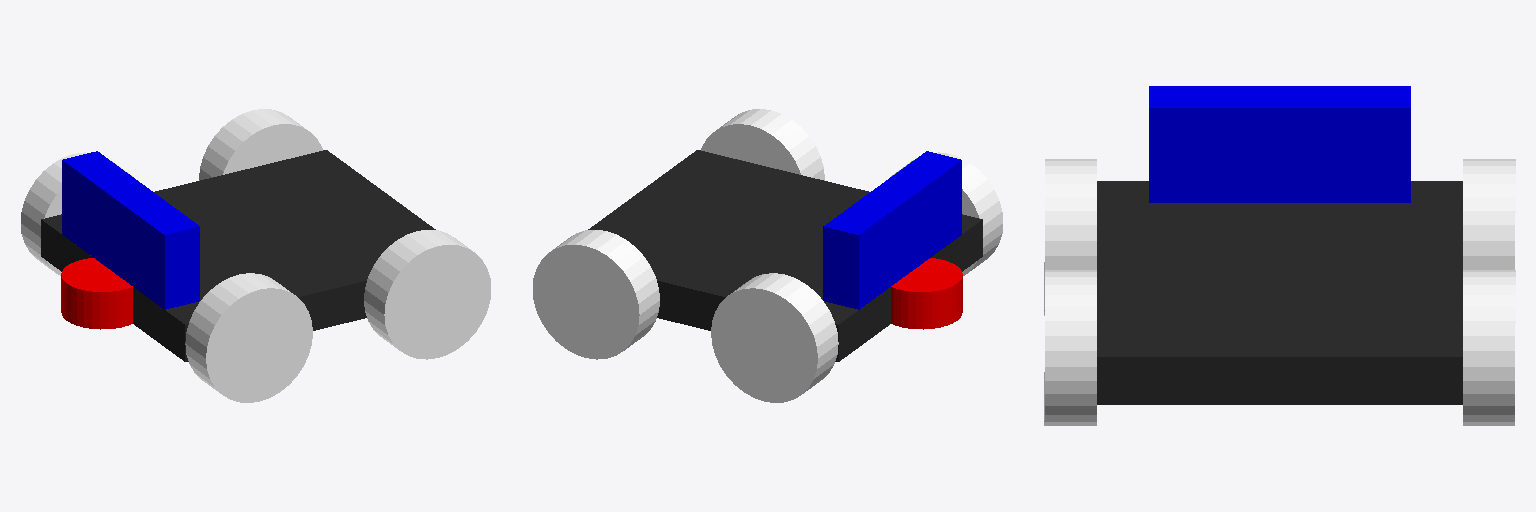
The robot description file, URDF, robot "rover":
<?xml version="1.0" ?>
  <robot name="rover">


  <link name="chassis">
    <visual>
      <geometry>
          <box size=".8 0.7 0.1"/>
      </geometry>
      <material name="gray">
        <color rgba=".2 .2 .2 1" />
      </material>
    </visual>
  <inertial>
            <mass value="2" />
            <inertia ixx="0.04" ixy="0.0" ixz="0" 
            iyy="0.17" iyz="0" izz="0.25" />
    </inertial>
    
    <collision>
      <geometry>
          <box size=".8 0.7 0.1"/>
      </geometry>
    </collision>
  </link>


  <link name="wheel_front_right">
    <inertial>
            <mass value="2" />
            <inertia ixx="1e-3" ixy="0.0" ixz="0" 
            iyy="1e-3" iyz="0" izz="1e-3" />
    </inertial>

    <visual>
      
      <geometry>
          <cylinder radius="0.15" length="0.1"/>
      </geometry>
      <material name="white">
        <color rgba="1 1 1 1"/>
      </material>
    </visual>

    <collision>
    
      <geometry>
          <cylinder radius="0.15" length="0.1"/>
      </geometry>
      <contact_coefficients mu="1" kp="1e+13" kd="1.0"/>
    </collision>
  </link>

  <joint name="wheel_front_right_joint" type="continuous">
    <origin xyz="0.25 0.4 0.0" rpy="1.57 0.0 0.0"/>
    <parent link="chassis"/>
    <child link="wheel_front_right"/>
    <axis xyz="0.0 0.0 1.0"/>
  </joint>

  <link name="wheel_front_left">
    <inertial>
            <mass value="2" />
            <inertia ixx="1e-3" ixy="0.0" ixz="0" 
            iyy="1e-3" iyz="0" izz="1e-3" />
    </inertial>

    <visual>
      
      <geometry>
          <cylinder radius="0.15" length="0.1"/>
      </geometry>
      <material name="white">
        <color rgba="1 1 1 1"/>
      </material>
    </visual>

    <collision>
      <geometry>
          <cylinder radius="0.15" length="0.1"/>
      </geometry>
      <contact_coefficients mu="1" kp="1e+13" kd="1.0"/>
    </collision>
  </link>

  <joint name="wheel_front_left_joint" type="continuous">
    <origin xyz="0.25 -0.4 0.0" rpy="1.57 0.0 0.0"/>
    <parent link="chassis"/>
    <child link="wheel_front_left"/>
    <axis xyz="0.0 0.0 1.0"/>

  </joint>

<link name="wheel_back_right">
    <inertial>
            <mass value="2" />
            <inertia ixx="1e-3" ixy="0.0" ixz="0" 
            iyy="1e-3" iyz="0" izz="1e-3" />
    </inertial>

    <visual>
      
      <geometry>
          <cylinder radius="0.15" length="0.1"/>
      </geometry>
      <material name="white">
        <color rgba="1 1 1 1"/>
      </material>
    </visual>

    <collision>
      <geometry>
          <cylinder radius="0.15" length="0.1"/>
      </geometry>
      <contact_coefficients mu="1" kp="1e+13" kd="1.0"/>
    </collision>
  </link>

  <joint name="wheel_back_right_joint" type="continuous">
    <origin xyz="-0.25 0.4 0.0" rpy="1.57 0.0 0.0"/>
    <parent link="chassis"/>
    <child link="wheel_back_right"/>
    <axis xyz="0.0 0.0 1.0"/>

  </joint>

  <link name="wheel_back_left">
    <inertial>
            <mass value="2" />
            <inertia ixx="1e-3" ixy="0.0" ixz="0" 
            iyy="1e-3" iyz="0" izz="1e-3" />
    </inertial>

    <visual>
      
      <geometry>
          <cylinder radius="0.15" length="0.1"/>
      </geometry>
      <material name="white">
        <color rgba="1 1 1 1"/>
      </material>
    </visual>

    <collision>
      <geometry>
          <cylinder radius="0.15" length="0.1"/>
      </geometry>
      <contact_coefficients mu="1" kp="1e+13" kd="1.0"/>
    </collision>
  </link>

  <joint name="wheel_back_left_joint" type="continuous">
    <origin xyz="-0.25 -0.4 0.0" rpy="1.57 0.0 0.0"/>
    <parent link="chassis"/>
    <child link="wheel_back_left"/>
    <axis xyz="0.0 0.0 1.0"/>

  </joint>

  <link name="camera">
    <inertial>
            <mass value="0.5" />
            <inertia ixx="0.01" ixy="0.0" ixz="0" 
            iyy="0.01" iyz="0" izz="0.01" />
    </inertial>

    <visual>
      
      <geometry>
        <box size="0.1 0.5 0.2"/>
      </geometry>
      <material name="blue">
        <color rgba="0 0 1 1"/>
      </material>
    </visual>

    <collision>
      <geometry>
          <box size="0.1 0.5 0.2"/>
      </geometry>
    </collision>
  </link>

  <joint name="camera_joint" type="fixed">
    <origin xyz="-0.35 0 0.15" rpy="0 0.0 3.14"/>
    <parent link="chassis"/>
    <child link="camera"/>
    <axis xyz="0.0 0.0 1.0"/>

  </joint>

  <link name="lidar">
    <inertial>
            <mass value="0.5" />
            <inertia ixx="0.01" ixy="0.0" ixz="0" 
            iyy="0.01" iyz="0" izz="0.01" />
    </inertial>

    <visual>
      <geometry>
        <cylinder radius="0.1" length="0.1"/>
      </geometry>
      <material name="red">
        <color rgba="1 0 0  1"/>
      </material>
    </visual>

    <collision>
      <geometry>
        <cylinder radius="0.1" length="0.1"/>
      </geometry>
    </collision>
  </link>

  <joint name="lidar_joint" type="fixed">
    <origin xyz="-0.43 0 0.0" rpy="0 0.0 1.57"/>
    <parent link="chassis"/>
    <child link="lidar"/>
    <axis xyz="0.0 0.0 1.0"/>

  </joint>



<!-- DIFFENERNTIAL DRIVEEEEEEEEEEEEE -->

  <gazebo>
  <plugin name='diff_drive' filename='libgazebo_ros_diff_drive.so'>
          <left_joint>wheel_front_left_joint</left_joint>
          <right_joint>wheel_front_right_joint</right_joint>
          <wheel_separation>0.8</wheel_separation>
          <wheel_diameter>0.3</wheel_diameter>
          <max_wheel_torque>20</max_wheel_torque>
          <max_wheel_acceleration>1.0</max_wheel_acceleration>]
          <publish_odom>true</publish_odom>
          <publish_odom_tf>true</publish_odom_tf>
          <publish_wheel_tf>true</publish_wheel_tf>

          <odometry_frame>base_footprint</odometry_frame>
          <robot_base_frame>chassis</robot_base_frame>

         </plugin>
</gazebo>

<!-- CAMERAAAAAAAAAAAAAAAAAAAAAAAAAAAAAA -->
      <gazebo reference="camera">
    <sensor type="camera" name="camera1">
      <update_rate>30.0</update_rate>
      <camera name="head">
        <horizontal_fov>1.3962634</horizontal_fov>
        <image>
          <width>600</width>
          <height>480</height>
          <format>R8G8B8</format>
        </image>
        <clip>
          <near>0.02</near>
          <far>300</far>
        </clip>
        <noise>
          <type>gaussian</type>
          <mean>0.0</mean>
          <stddev>0.007</stddev>
        </noise>
      </camera>
      <plugin name="camera_controller" filename="libgazebo_ros_camera.so">
        <alwaysOn>true</alwaysOn>
        <cameraName>/camera</cameraName>
        <imageTopicName>image_raw</imageTopicName>
        <cameraInfoTopicName>camera_info</cameraInfoTopicName>
        <frameName>camera</frameName>
        <hackBaseline>0.07</hackBaseline>
      </plugin>
    </sensor>
    <material>Gazebo/Blue</material>
  </gazebo>
<!-- LIDAAAAAAAAAAAAAAAAAAAAAAAAAAR -->
   <gazebo reference="lidar">
    <sensor name="gazebo_lidar" type="ray">
      <visualize>true</visualize>
      <update_rate>12.0</update_rate>
      <plugin filename="libgazebo_ros_ray_sensor.so" name="gazebo_lidar">
      <ros>
        <remapping>~/out:=scan</remapping>
      </ros>
      
      <output_type>sensor_msgs/LaserScan</output_type>
      <frame_name>lidar</frame_name>
      </plugin>
      <ray>
        <scan>
          <horizontal>
            <samples>360</samples>
            <resolution>1</resolution>
            <min_angle>0.00</min_angle>
            <max_angle>3.14</max_angle>
          </horizontal>
        </scan>
        <range>
          <min>0.120</min>
          <max>3.5</max>
          <resolution>0.015</resolution>
        </range>
        <noise>
          <type>gaussian</type>
          <mean>0.0</mean>
          <stddev>0.01</stddev>
        </noise>
      </ray>
    </sensor>
    <material>Gazebo/DarkGrey</material>
  </gazebo> 


  <gazebo reference="wheel_back_right">    
      <material>Gazebo/Red</material>
  </gazebo> 

  <gazebo reference="wheel_front_right">
    <material>Gazebo/Red</material>
  </gazebo> 

  <gazebo reference="wheel_front_left">
    <material>Gazebo/Red</material>
  </gazebo> 

  <gazebo reference="wheel_back_left">
    <material>Gazebo/Red</material>
  </gazebo> 

  <gazebo reference="chassis">
    <material>Gazebo/Orange</material>
  </gazebo> 

  <gazebo reference="lidar">
    <material>Gazebo/DarkGrey</material>
  </gazebo> 

</robot>

--- Facts derived from the render (not from the file) ---
The picture shows the robot from 3 angles, left to right: view 1: azimuth 30°, elevation 25°; view 2: azimuth 150°, elevation 25°; view 3: azimuth 270°, elevation 25°; orthographic projection.
Model rover with 7 links and 6 joints (4 continuous, 2 fixed), rooted at chassis, posed all joints at 0.
Visible links, largest first — view 1: chassis, camera, wheel_back_left, wheel_front_left, wheel_front_right, lidar, wheel_back_right; view 2: chassis, camera, wheel_back_right, wheel_front_right, wheel_front_left, lidar, wheel_back_left; view 3: chassis, camera, wheel_front_right, wheel_front_left, wheel_back_right, wheel_back_left.
Boxes of the visible links, x1=… form: chassis: x1=41, y1=150, x2=435, y2=361; camera: x1=62, y1=151, x2=199, y2=309; wheel_back_left: x1=185, y1=273, x2=312, y2=402; wheel_front_left: x1=364, y1=230, x2=490, y2=359; wheel_front_right: x1=199, y1=109, x2=322, y2=180; lidar: x1=61, y1=258, x2=132, y2=329; wheel_back_right: x1=21, y1=152, x2=132, y2=275; chassis: x1=588, y1=150, x2=982, y2=361; camera: x1=823, y1=151, x2=961, y2=309; wheel_back_right: x1=711, y1=273, x2=838, y2=402; wheel_front_right: x1=533, y1=230, x2=659, y2=359; wheel_front_left: x1=701, y1=109, x2=824, y2=180; lidar: x1=891, y1=258, x2=962, y2=329; wheel_back_left: x1=891, y1=152, x2=1002, y2=275; chassis: x1=1097, y1=181, x2=1462, y2=404; camera: x1=1149, y1=86, x2=1410, y2=202; wheel_front_right: x1=1463, y1=270, x2=1515, y2=425; wheel_front_left: x1=1044, y1=270, x2=1096, y2=425; wheel_back_right: x1=1463, y1=159, x2=1515, y2=269; wheel_back_left: x1=1044, y1=159, x2=1096, y2=315.
Size in the robot's own frame: 0.93 by 0.9002 by 0.4 metres.
Geometry: primitives only (box / cylinder / sphere), no mesh files.
